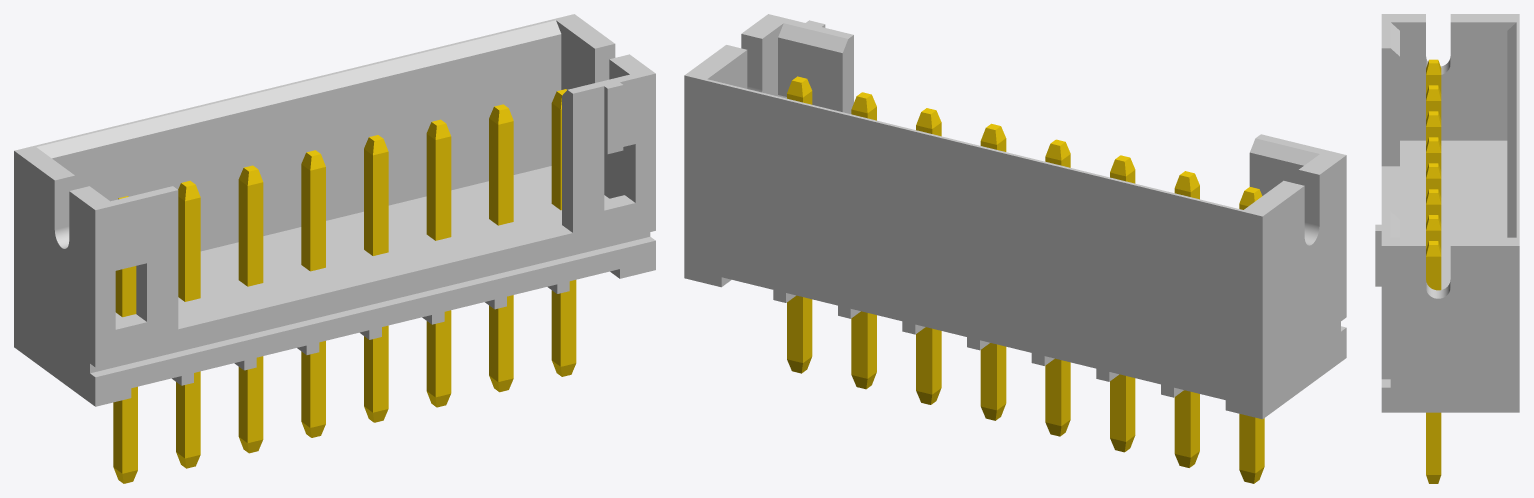
3 views of the same model, side by side, from view 1: azimuth 30°, elevation 25°; view 2: azimuth 150°, elevation 25°; view 3: azimuth 270°, elevation 25° (orthographic). The views are drawn at different scales.
Visible parts, largest first — view 1: BxB-PH-K-S; view 2: BxB-PH-K-S; view 3: BxB-PH-K-S.
Part boxes in pixels (bbox=[...]): BxB-PH-K-S: bbox=[14, 14, 655, 483]; BxB-PH-K-S: bbox=[684, 14, 1346, 483]; BxB-PH-K-S: bbox=[1375, 14, 1519, 483].
Bounding box in the file's own units: 0.0179 × 0.0094 × 0.0047.
